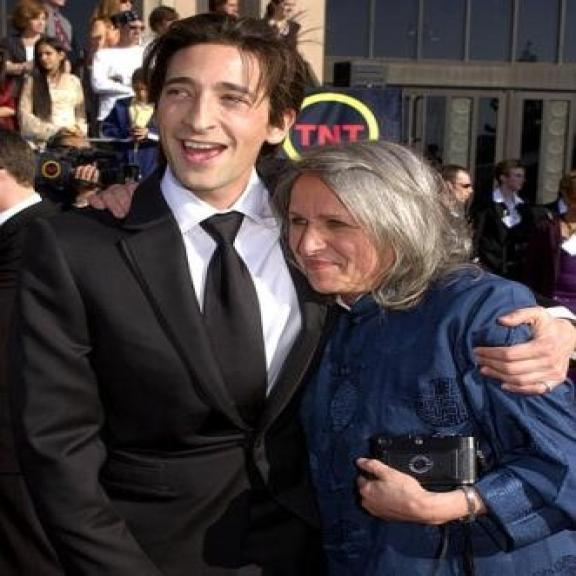face: (160, 44, 298, 192), (286, 159, 393, 300), (36, 36, 75, 77), (443, 171, 476, 207), (130, 70, 161, 106), (115, 16, 150, 46), (498, 160, 527, 195), (268, 0, 304, 24), (155, 7, 181, 40), (99, 0, 146, 18), (206, 0, 242, 21), (23, 11, 50, 36)
